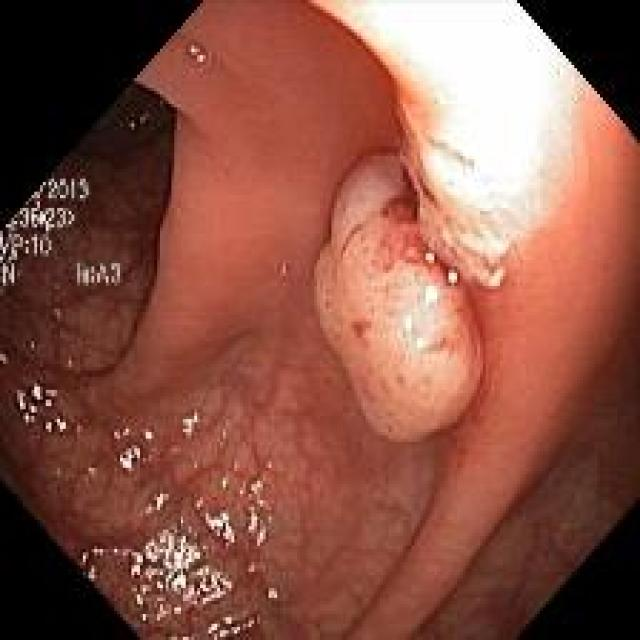Polyps: (314, 154, 482, 441)
